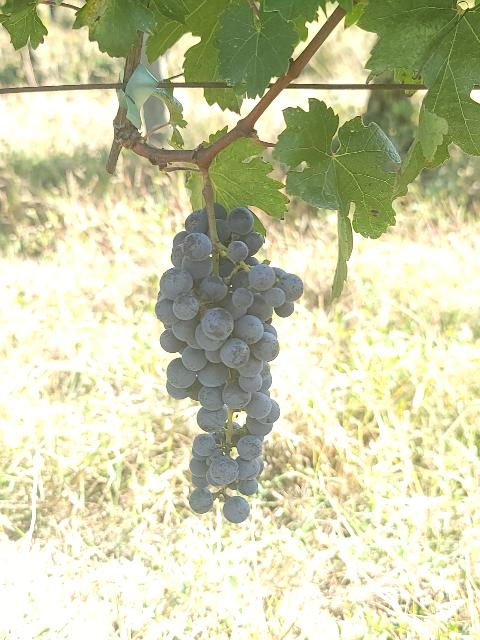grapes: (155, 204, 304, 524)
